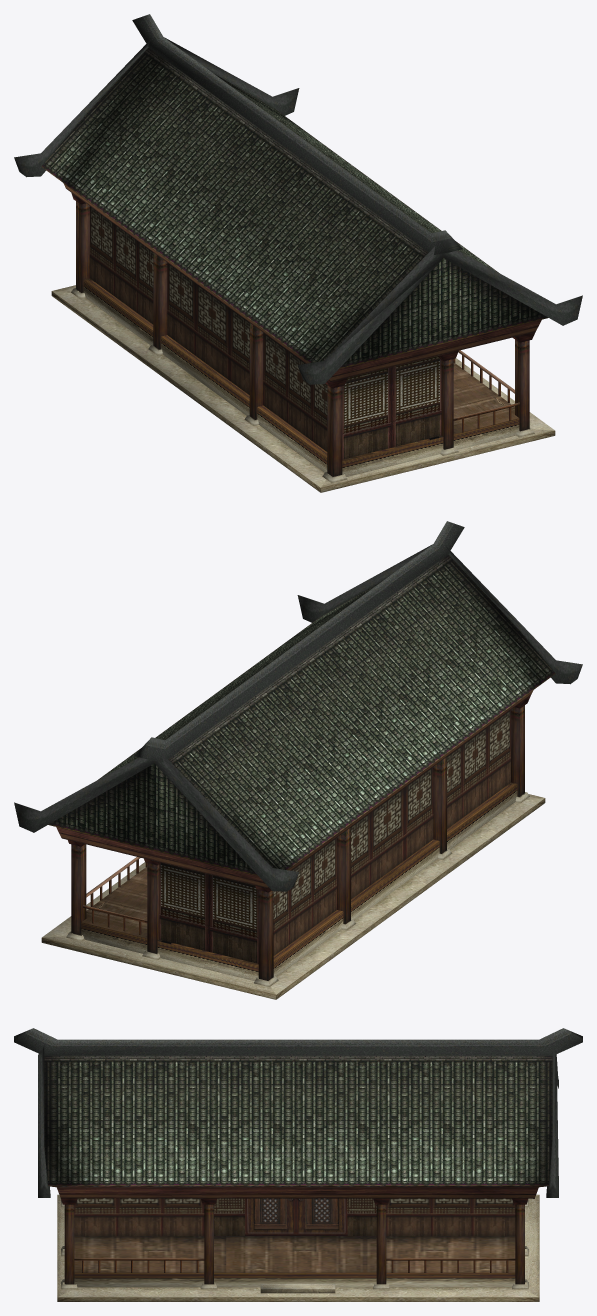
File: c1-033-guesthouse-02_lod_01.fbx
The picture shows the model from 3 angles, top to bottom: view 1: azimuth 30°, elevation 25°; view 2: azimuth 150°, elevation 25°; view 3: azimuth 270°, elevation 25°; orthographic projection. The views are drawn at different scales.
Parts seen in each view (by area): view 1: c1-033-guesthouse-01, c1-033-guesthouse-02; view 2: c1-033-guesthouse-01, c1-033-guesthouse-02; view 3: c1-033-guesthouse-01, c1-033-guesthouse-02.
Boxes of the visible parts, x1,y1,x2,y2 form: c1-033-guesthouse-01: (14, 14, 582, 483); c1-033-guesthouse-02: (51, 201, 555, 492); c1-033-guesthouse-01: (14, 521, 582, 987); c1-033-guesthouse-02: (41, 705, 545, 999); c1-033-guesthouse-01: (14, 1028, 582, 1293); c1-033-guesthouse-02: (57, 1194, 539, 1301).
Size of the model in its own units: 14.1 by 11.57 by 27.14.
